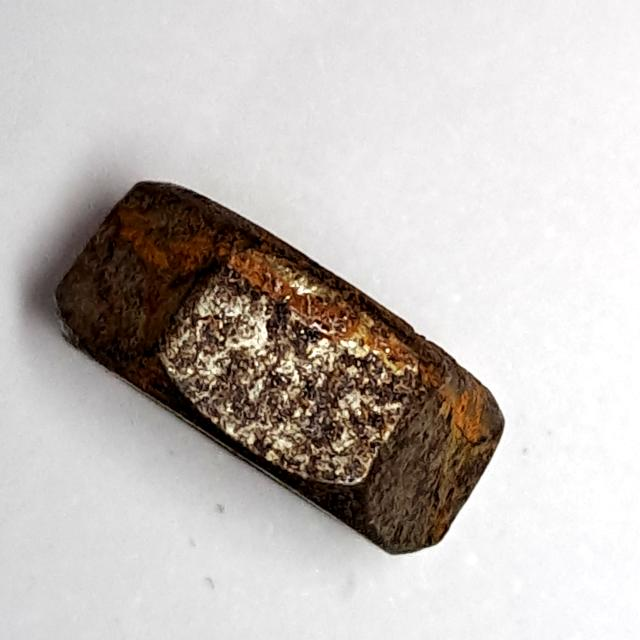Side_Rust: (47, 169, 522, 566)
